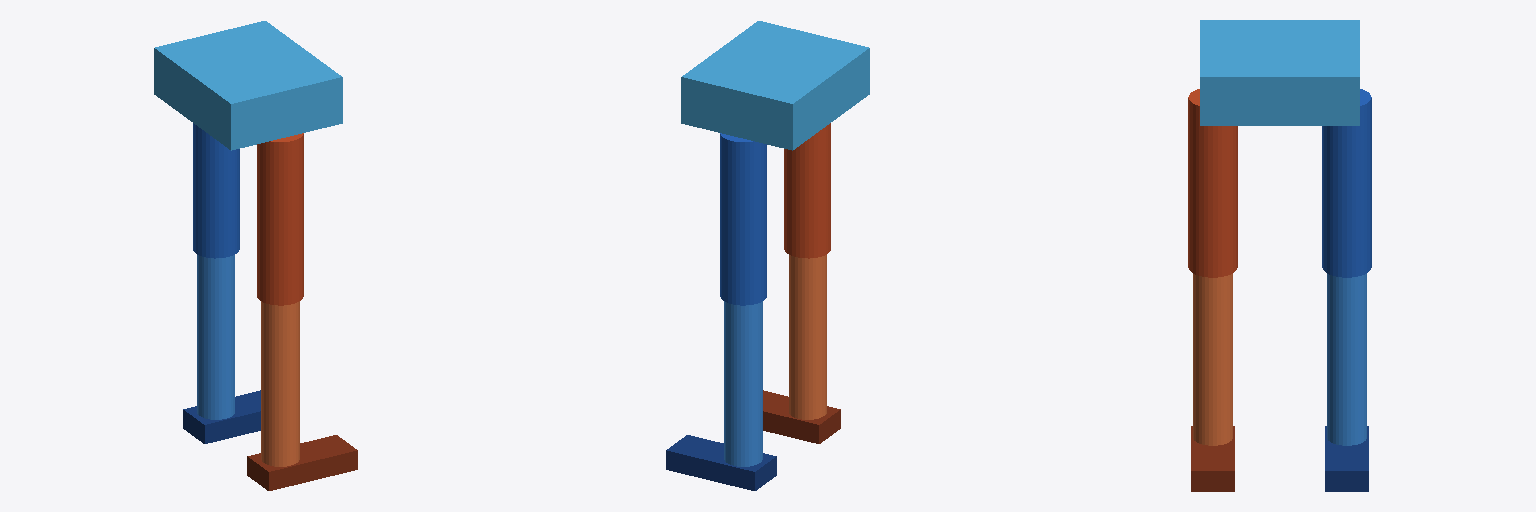
robot.urdf — rehab_exo:
<?xml version="1.0" ?>
<!-- =================================================================================== -->
<!-- |    This document was autogenerated by xacro from urdf/rehab_exo.xacro           | -->
<!-- |    EDITING THIS FILE BY HAND IS NOT RECOMMENDED                                 | -->
<!-- =================================================================================== -->
<!-- Varianta parametrica (xacro) a robotului de recuperare cu 6 GDL.
     Expandati cu:  xacro rehab_exo.xacro > rehab_exo_generated.urdf
     Echivalenta structural cu rehab_exo.urdf (verificat prin expandare). -->
<robot name="rehab_exo">
  <!-- ===== Materiale ===== -->
  <material name="blue_thigh">
    <color rgba="0.20 0.45 0.80 1"/>
  </material>
  <material name="blue_shank">
    <color rgba="0.30 0.60 0.90 1"/>
  </material>
  <material name="blue_foot">
    <color rgba="0.15 0.30 0.55 1"/>
  </material>
  <material name="red_thigh">
    <color rgba="0.80 0.35 0.20 1"/>
  </material>
  <material name="red_shank">
    <color rgba="0.90 0.50 0.30 1"/>
  </material>
  <material name="red_foot">
    <color rgba="0.55 0.25 0.15 1"/>
  </material>
  <!-- ===== Structura ===== -->
  <link name="world"/>
  <joint name="world_to_base" type="fixed">
    <parent link="world"/>
    <child link="base_link"/>
    <origin rpy="0 0 0" xyz="0 0 0.95"/>
  </joint>
  <link name="base_link">
    <inertial>
      <mass value="8.0"/>
      <inertia ixx="0.10" ixy="0" ixz="0" iyy="0.07" iyz="0" izz="0.15"/>
    </inertial>
    <visual>
      <geometry>
        <box size="0.30 0.36 0.12"/>
      </geometry>
    </visual>
    <collision>
      <geometry>
        <box size="0.30 0.36 0.12"/>
      </geometry>
    </collision>
  </link>
  <joint name="left_hip_joint" type="revolute">
    <parent link="base_link"/>
    <child link="left_thigh"/>
    <origin rpy="0 0 0" xyz="0 0.15 -0.06"/>
    <axis xyz="0 1 0"/>
    <limit effort="120.0" lower="0.0" upper="3.14159" velocity="2.0"/>
    <dynamics damping="2.0" friction="1.0"/>
  </joint>
  <link name="left_thigh">
    <inertial>
      <origin xyz="0 0 -0.21"/>
      <mass value="4.0"/>
      <inertia ixx="0.06" ixy="0" ixz="0" iyy="0.06" iyz="0" izz="0.006"/>
    </inertial>
    <visual>
      <origin xyz="0 0 -0.21"/>
      <geometry>
        <cylinder length="0.42" radius="0.055"/>
      </geometry>
      <material name="blue_thigh"/>
    </visual>
    <collision>
      <origin xyz="0 0 -0.21"/>
      <geometry>
        <cylinder length="0.42" radius="0.055"/>
      </geometry>
    </collision>
  </link>
  <joint name="left_knee_joint" type="revolute">
    <parent link="left_thigh"/>
    <child link="left_shank"/>
    <origin rpy="0 0 0" xyz="0 0 -0.42"/>
    <axis xyz="0 1 0"/>
    <limit effort="120.0" lower="0.0" upper="3.14159" velocity="2.0"/>
    <dynamics damping="2.0" friction="1.0"/>
  </joint>
  <link name="left_shank">
    <inertial>
      <origin xyz="0 0 -0.21"/>
      <mass value="3.0"/>
      <inertia ixx="0.045" ixy="0" ixz="0" iyy="0.045" iyz="0" izz="0.003"/>
    </inertial>
    <visual>
      <origin xyz="0 0 -0.21"/>
      <geometry>
        <cylinder length="0.42" radius="0.045"/>
      </geometry>
      <material name="blue_shank"/>
    </visual>
    <collision>
      <origin xyz="0 0 -0.21"/>
      <geometry>
        <cylinder length="0.42" radius="0.045"/>
      </geometry>
    </collision>
  </link>
  <joint name="left_ankle_joint" type="revolute">
    <parent link="left_shank"/>
    <child link="left_foot"/>
    <origin rpy="0 0 0" xyz="0 0 -0.42"/>
    <axis xyz="0 1 0"/>
    <limit effort="120.0" lower="0.0" upper="3.14159" velocity="2.0"/>
    <dynamics damping="2.0" friction="1.0"/>
  </joint>
  <link name="left_foot">
    <inertial>
      <origin xyz="0.06 0 -0.025"/>
      <mass value="1.0"/>
      <inertia ixx="0.001" ixy="0" ixz="0" iyy="0.005" iyz="0" izz="0.005"/>
    </inertial>
    <visual>
      <origin xyz="0.06 0 -0.025"/>
      <geometry>
        <box size="0.24 0.10 0.05"/>
      </geometry>
      <material name="blue_foot"/>
    </visual>
    <collision>
      <origin xyz="0.06 0 -0.025"/>
      <geometry>
        <box size="0.24 0.10 0.05"/>
      </geometry>
    </collision>
  </link>
  <joint name="right_hip_joint" type="revolute">
    <parent link="base_link"/>
    <child link="right_thigh"/>
    <origin rpy="0 0 0" xyz="0 -0.15 -0.06"/>
    <axis xyz="0 1 0"/>
    <limit effort="120.0" lower="0.0" upper="3.14159" velocity="2.0"/>
    <dynamics damping="2.0" friction="1.0"/>
  </joint>
  <link name="right_thigh">
    <inertial>
      <origin xyz="0 0 -0.21"/>
      <mass value="4.0"/>
      <inertia ixx="0.06" ixy="0" ixz="0" iyy="0.06" iyz="0" izz="0.006"/>
    </inertial>
    <visual>
      <origin xyz="0 0 -0.21"/>
      <geometry>
        <cylinder length="0.42" radius="0.055"/>
      </geometry>
      <material name="red_thigh"/>
    </visual>
    <collision>
      <origin xyz="0 0 -0.21"/>
      <geometry>
        <cylinder length="0.42" radius="0.055"/>
      </geometry>
    </collision>
  </link>
  <joint name="right_knee_joint" type="revolute">
    <parent link="right_thigh"/>
    <child link="right_shank"/>
    <origin rpy="0 0 0" xyz="0 0 -0.42"/>
    <axis xyz="0 1 0"/>
    <limit effort="120.0" lower="0.0" upper="3.14159" velocity="2.0"/>
    <dynamics damping="2.0" friction="1.0"/>
  </joint>
  <link name="right_shank">
    <inertial>
      <origin xyz="0 0 -0.21"/>
      <mass value="3.0"/>
      <inertia ixx="0.045" ixy="0" ixz="0" iyy="0.045" iyz="0" izz="0.003"/>
    </inertial>
    <visual>
      <origin xyz="0 0 -0.21"/>
      <geometry>
        <cylinder length="0.42" radius="0.045"/>
      </geometry>
      <material name="red_shank"/>
    </visual>
    <collision>
      <origin xyz="0 0 -0.21"/>
      <geometry>
        <cylinder length="0.42" radius="0.045"/>
      </geometry>
    </collision>
  </link>
  <joint name="right_ankle_joint" type="revolute">
    <parent link="right_shank"/>
    <child link="right_foot"/>
    <origin rpy="0 0 0" xyz="0 0 -0.42"/>
    <axis xyz="0 1 0"/>
    <limit effort="120.0" lower="0.0" upper="3.14159" velocity="2.0"/>
    <dynamics damping="2.0" friction="1.0"/>
  </joint>
  <link name="right_foot">
    <inertial>
      <origin xyz="0.06 0 -0.025"/>
      <mass value="1.0"/>
      <inertia ixx="0.001" ixy="0" ixz="0" iyy="0.005" iyz="0" izz="0.005"/>
    </inertial>
    <visual>
      <origin xyz="0.06 0 -0.025"/>
      <geometry>
        <box size="0.24 0.10 0.05"/>
      </geometry>
      <material name="red_foot"/>
    </visual>
    <collision>
      <origin xyz="0.06 0 -0.025"/>
      <geometry>
        <box size="0.24 0.10 0.05"/>
      </geometry>
    </collision>
  </link>
  <!-- ===== ros2_control + plugin Gazebo (gz) ===== -->
  <ros2_control name="RehabExoSystem" type="system">
    <hardware>
      <plugin>gz_ros2_control/GazeboSimSystem</plugin>
    </hardware>
    <joint name="left_hip_joint">
      <command_interface name="position">
        <param name="min">0.0</param>
        <param name="max">3.14159</param>
      </command_interface>
      <state_interface name="position"/>
      <state_interface name="velocity"/>
      <state_interface name="effort"/>
    </joint>
    <joint name="left_knee_joint">
      <command_interface name="position">
        <param name="min">0.0</param>
        <param name="max">3.14159</param>
      </command_interface>
      <state_interface name="position"/>
      <state_interface name="velocity"/>
      <state_interface name="effort"/>
    </joint>
    <joint name="left_ankle_joint">
      <command_interface name="position">
        <param name="min">0.0</param>
        <param name="max">3.14159</param>
      </command_interface>
      <state_interface name="position"/>
      <state_interface name="velocity"/>
      <state_interface name="effort"/>
    </joint>
    <joint name="right_hip_joint">
      <command_interface name="position">
        <param name="min">0.0</param>
        <param name="max">3.14159</param>
      </command_interface>
      <state_interface name="position"/>
      <state_interface name="velocity"/>
      <state_interface name="effort"/>
    </joint>
    <joint name="right_knee_joint">
      <command_interface name="position">
        <param name="min">0.0</param>
        <param name="max">3.14159</param>
      </command_interface>
      <state_interface name="position"/>
      <state_interface name="velocity"/>
      <state_interface name="effort"/>
    </joint>
    <joint name="right_ankle_joint">
      <command_interface name="position">
        <param name="min">0.0</param>
        <param name="max">3.14159</param>
      </command_interface>
      <state_interface name="position"/>
      <state_interface name="velocity"/>
      <state_interface name="effort"/>
    </joint>
  </ros2_control>
  <gazebo>
    <plugin filename="gz_ros2_control-system" name="gz_ros2_control::GazeboSimROS2ControlPlugin">
      <parameters>/tmp/claude-1000/-home-ubuntu-ros2-ws/85d44231-fc89-4def-a158-4cc270efe127/scratchpad/c4_audit/install/rehab_exo_description/share/rehab_exo_description/config/controllers.yaml</parameters>
    </plugin>
  </gazebo>
</robot>

--- Render facts (derived) ---
The picture shows the robot from 3 angles, left to right: view 1: azimuth 30°, elevation 25°; view 2: azimuth 150°, elevation 25°; view 3: azimuth 270°, elevation 25°; orthographic projection.
Robot: rehab_exo — 8 links, 7 joints (6 revolute, 1 fixed); root link world; default pose: every joint at zero.
Links seen in each view (by area): view 1: base_link, right_thigh, right_shank, left_shank, left_thigh, right_foot, left_foot; view 2: base_link, left_thigh, left_shank, right_shank, right_thigh, left_foot, right_foot; view 3: base_link, left_thigh, right_thigh, left_shank, right_shank, left_foot, right_foot.
Link boxes in pixels (x1,y1,x2,y2): base_link: (154,21,342,150); right_thigh: (257,133,303,305); right_shank: (261,301,299,466); left_shank: (197,255,234,419); left_thigh: (193,123,239,258); right_foot: (247,435,357,490); left_foot: (183,390,260,443); base_link: (681,21,869,150); left_thigh: (720,133,766,305); left_shank: (724,301,762,466); right_shank: (789,255,826,419); right_thigh: (784,123,830,258); left_foot: (666,435,776,490); right_foot: (763,390,840,443); base_link: (1200,20,1359,125); left_thigh: (1322,89,1371,277); right_thigh: (1188,89,1237,277); left_shank: (1327,274,1366,445); right_shank: (1193,274,1232,445); left_foot: (1325,426,1368,491); right_foot: (1191,426,1234,491).
Size in the robot's own frame: 0.33 by 0.41 by 1.01 metres.
Geometry: primitives only (box / cylinder / sphere), no mesh files.
